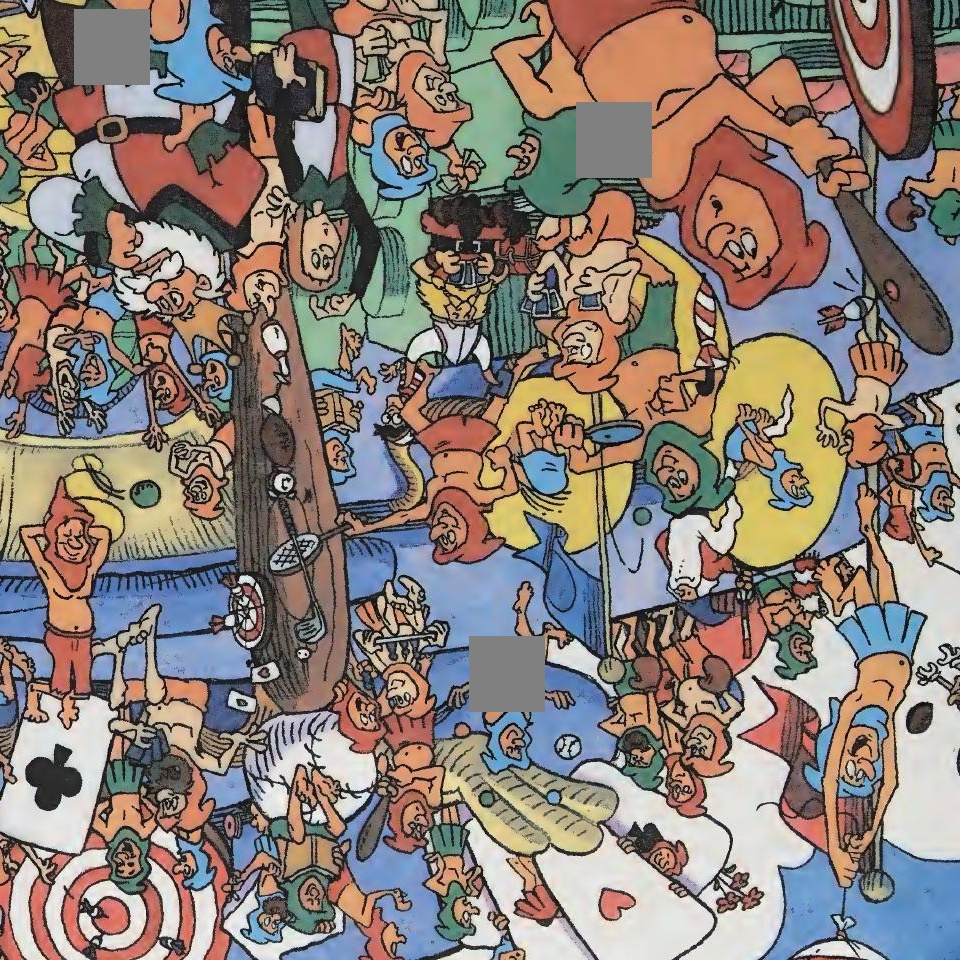waldo: (378, 388, 419, 445)
